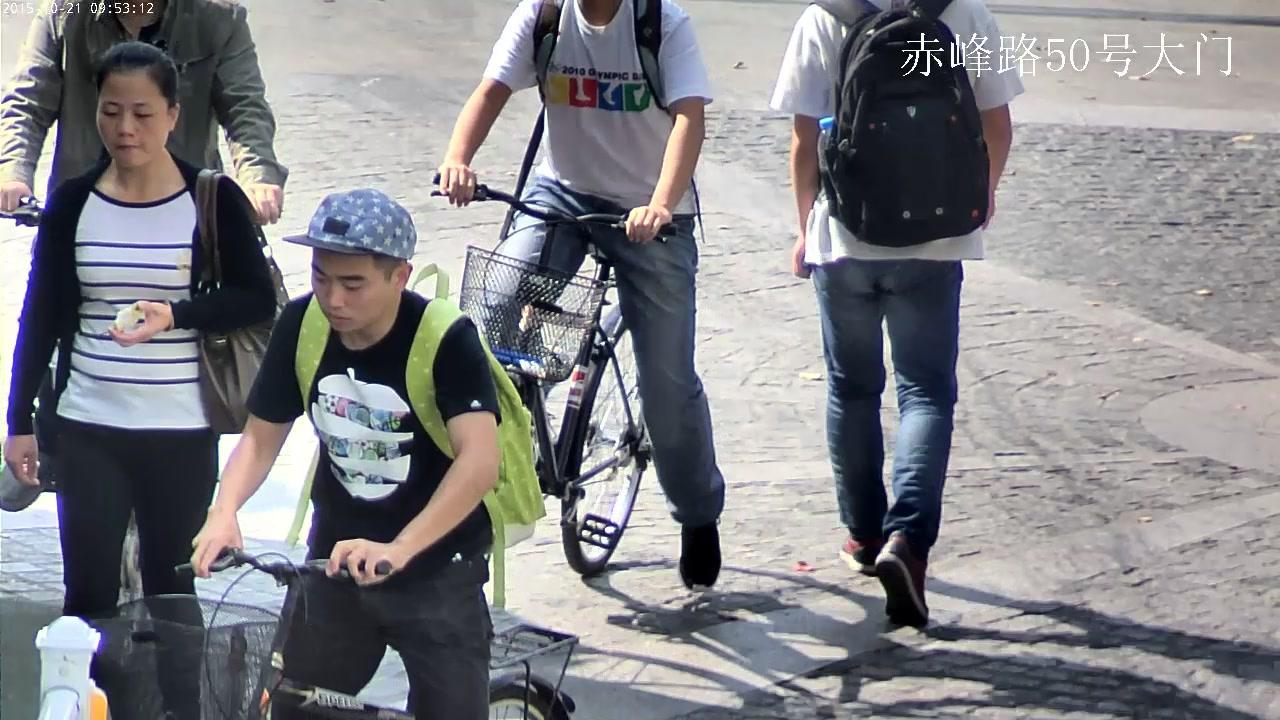face: (311, 245, 390, 331), (96, 70, 166, 167)
